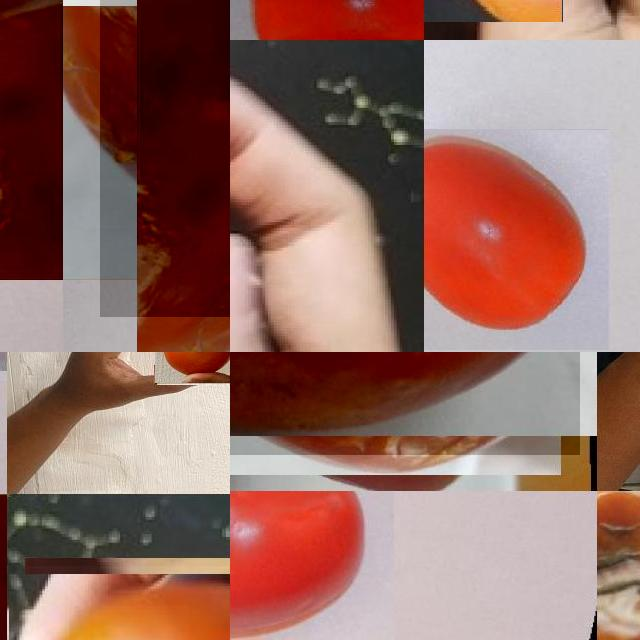Fresh Tomato: (424, 129, 608, 350), (230, 491, 371, 640), (16, 566, 230, 640), (230, 0, 424, 40), (155, 352, 230, 384)
Rotten Tomato: (100, 0, 230, 317), (230, 352, 580, 455), (0, 0, 63, 280)
